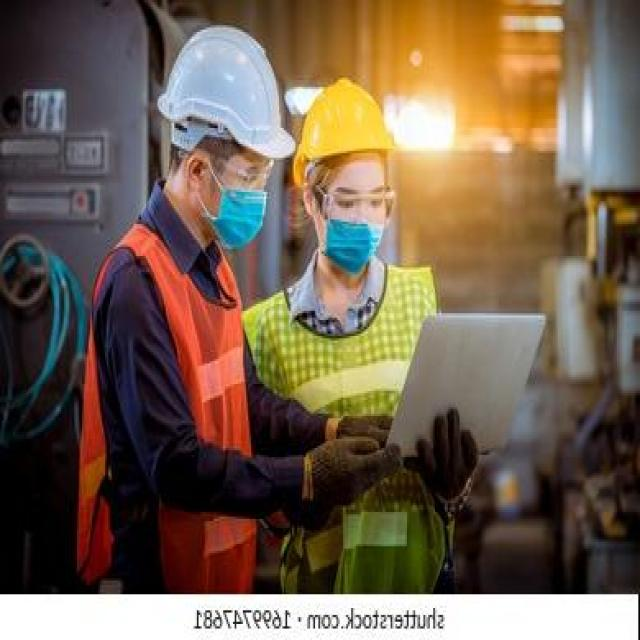Reflective-Jacket: (252, 260, 454, 590), (87, 217, 259, 590)
Safety-Helmet: (156, 20, 297, 167), (291, 71, 408, 185)
